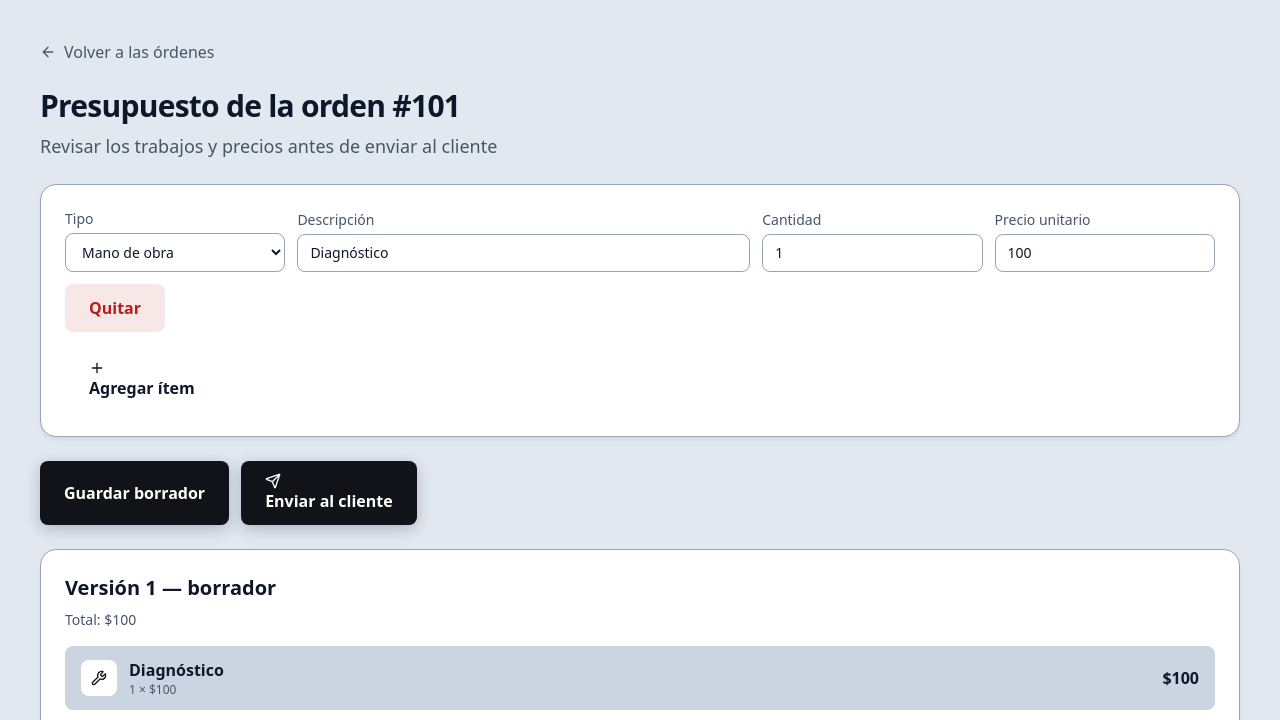
Test: MechanicBudgetPage › un 503 del envío conserva la referencia y ofrece solo el reintento de aplicación
Click the button "Enviar al cliente".
click(329, 493)  # box [241, 461, 417, 525]
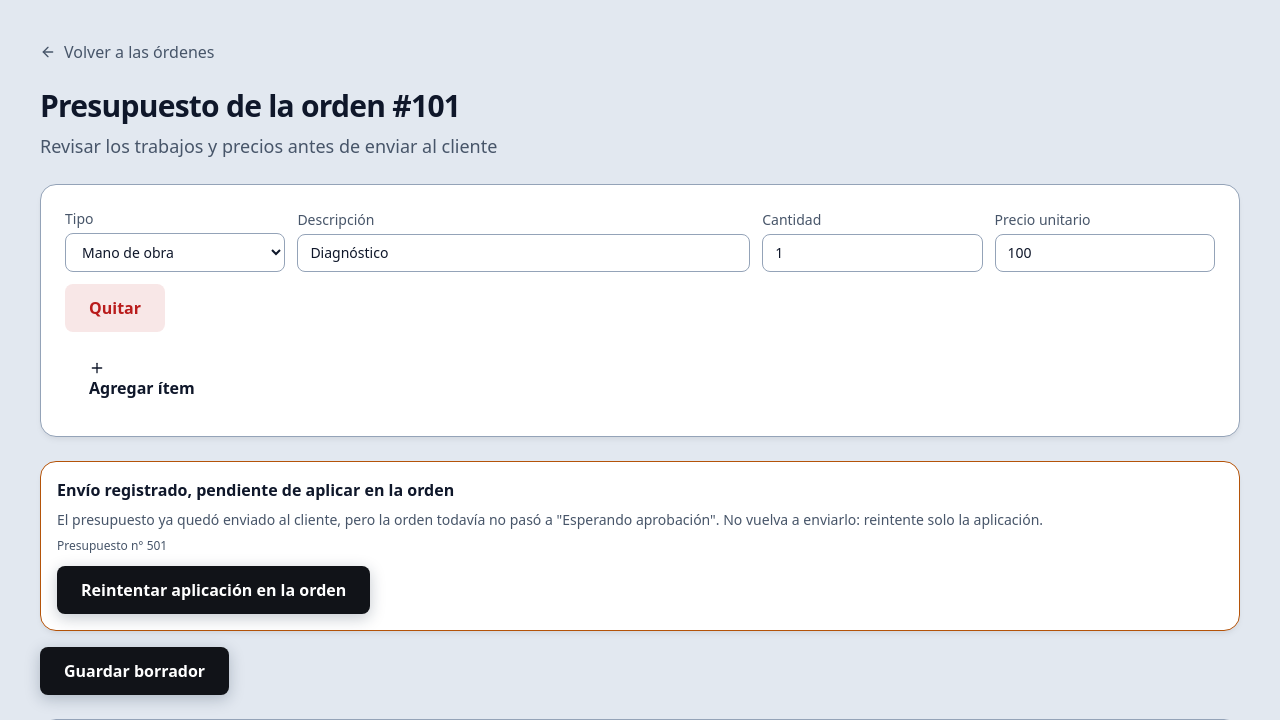
Result: the text "Presupuesto n° 501" is shown at [57, 537, 167, 554]
Click the button "Reintentar aplicación en la orden".
click(214, 590)  # box [57, 566, 370, 614]
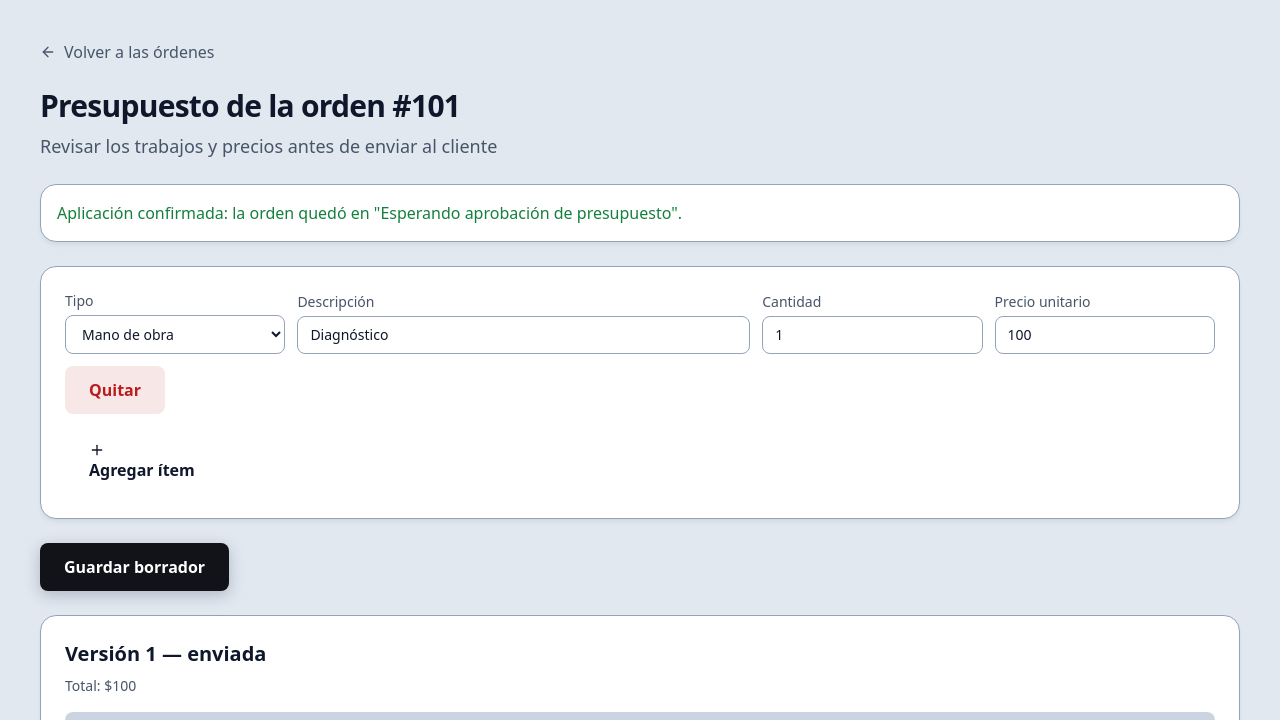
Result: the text "Aplicación confirmada" is shown at [57, 202, 682, 224]
Result: the button "Reintentar aplicación en la orden" is gone
